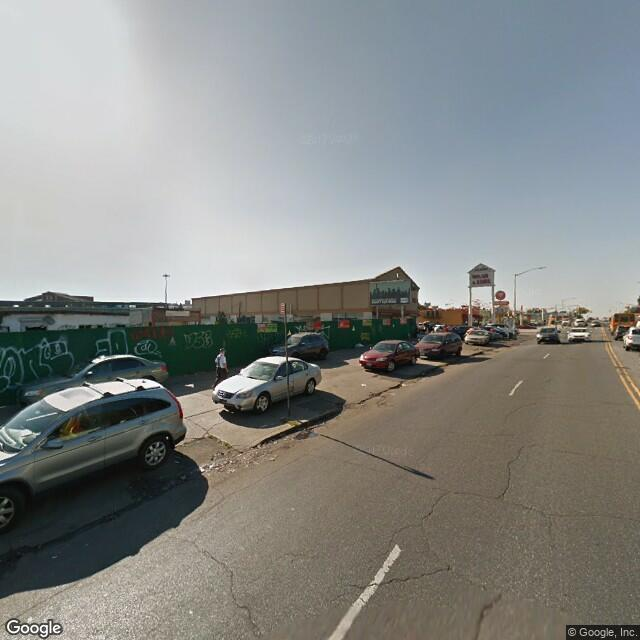litter: (396, 378, 422, 394), (354, 378, 381, 393)
